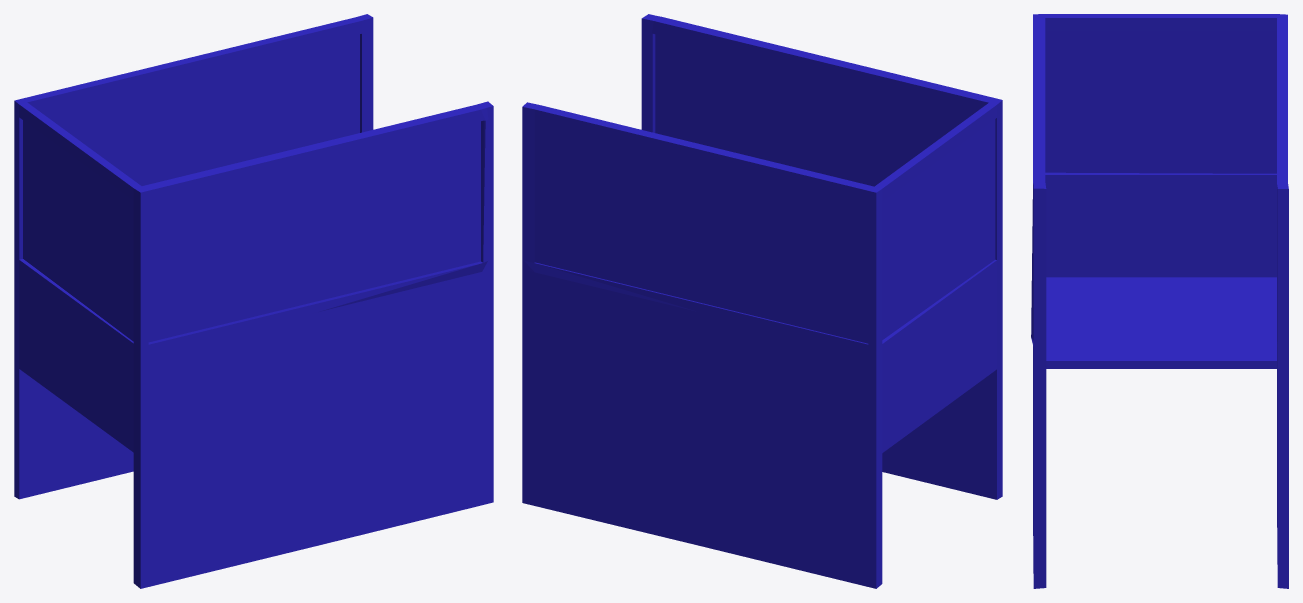
Rendered from cubiculo3.fbx.
3 renders of one model, left to right at view 1: azimuth 30°, elevation 25°; view 2: azimuth 150°, elevation 25°; view 3: azimuth 270°, elevation 25°, orthographic.
Parts seen in each view (by area): view 1: cubiculo; view 2: cubiculo; view 3: cubiculo.
Boxes of the visible parts, box(x1,y1,x2,y2) form: cubiculo: box(14, 14, 493, 588); cubiculo: box(522, 14, 1002, 588); cubiculo: box(1031, 14, 1288, 588).
Bounding box in the file's own units: 537 × 574 × 335.
